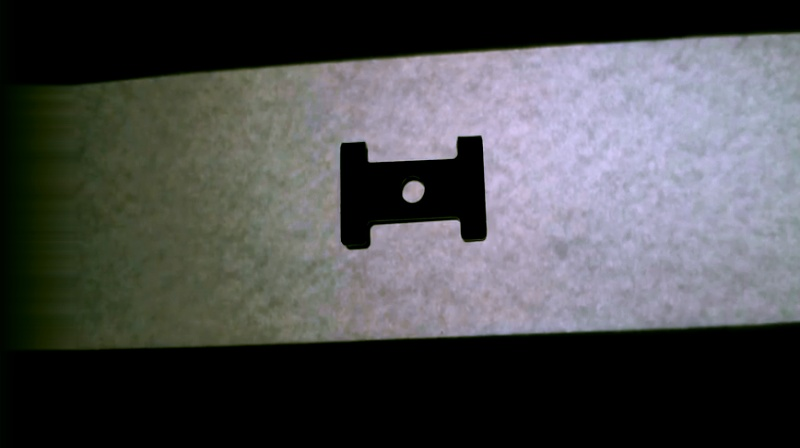O002: (334, 130, 487, 252)
